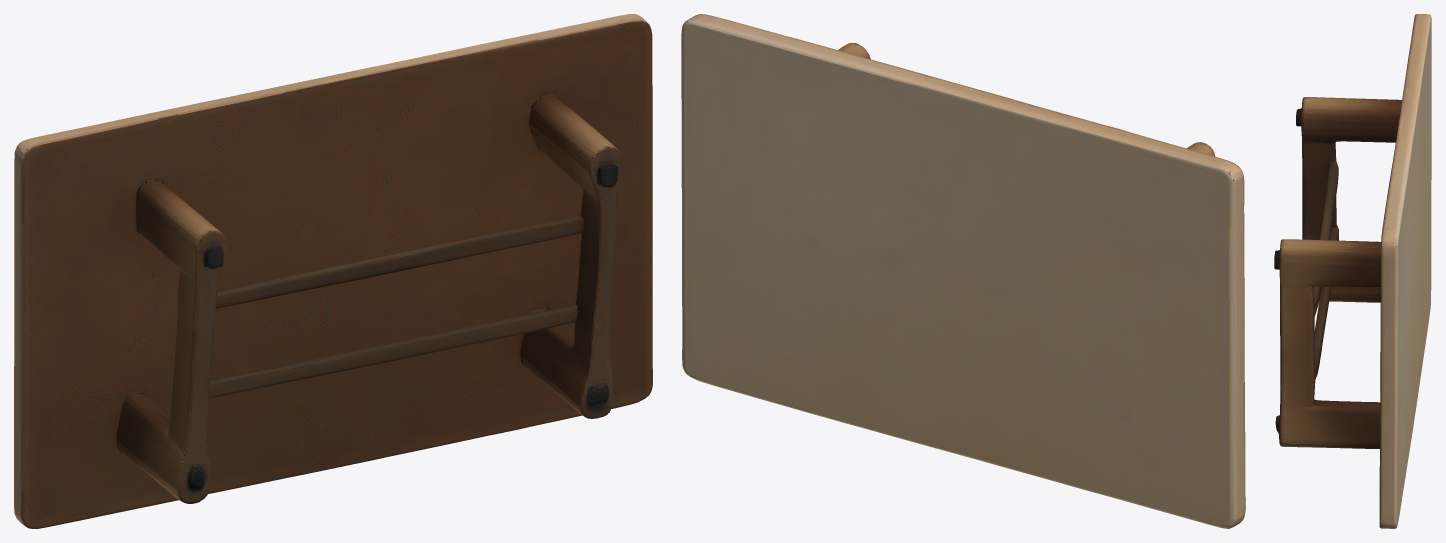
The model's file is wooden_chair_in_the_back_left_000.glb.
3 renders of one model, left to right at view 1: azimuth 30°, elevation 25°; view 2: azimuth 150°, elevation 25°; view 3: azimuth 270°, elevation 25°, orthographic. The views are drawn at different scales.
Parts seen in each view (by area): view 1: phase2_final_wooden_chair_in_the_back_left_000.obj; view 2: phase2_final_wooden_chair_in_the_back_left_000.obj; view 3: phase2_final_wooden_chair_in_the_back_left_000.obj.
Boxes of the visible parts, left/top/right/bottom form: phase2_final_wooden_chair_in_the_back_left_000.obj: left=14, top=14, right=652, bottom=528; phase2_final_wooden_chair_in_the_back_left_000.obj: left=681, top=14, right=1245, bottom=528; phase2_final_wooden_chair_in_the_back_left_000.obj: left=1274, top=14, right=1431, bottom=528.
Size of the model in its own units: 0.2109 by 0.1273 by 0.0611.
Materials: 1 (1 with a texture image).
